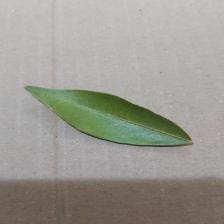greening: (149, 125, 201, 148)
